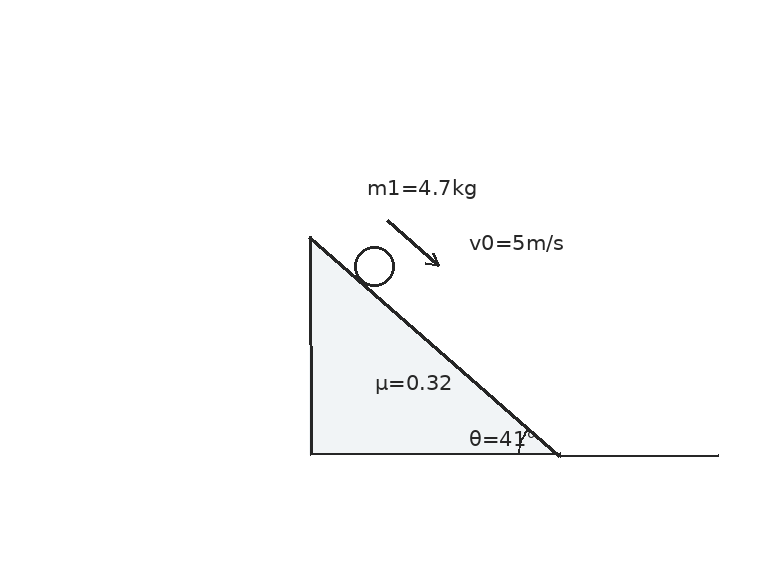ball: (352, 244, 396, 288)
ramp: (307, 235, 561, 456)
